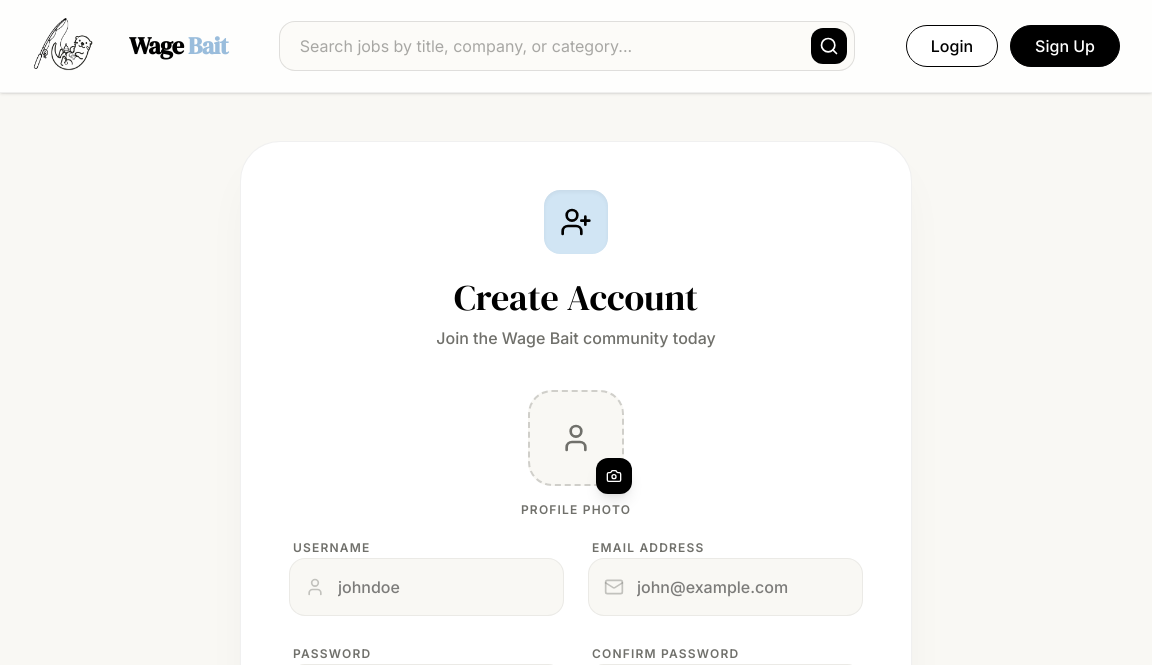
Test: Register Component › shows error if passwords do not match
This screenshot has width=1152, height=665.
Type "testuser" into the field with placeholder "johndoe".
click(426, 587); type("testuser")  # box [289,558,564,616]
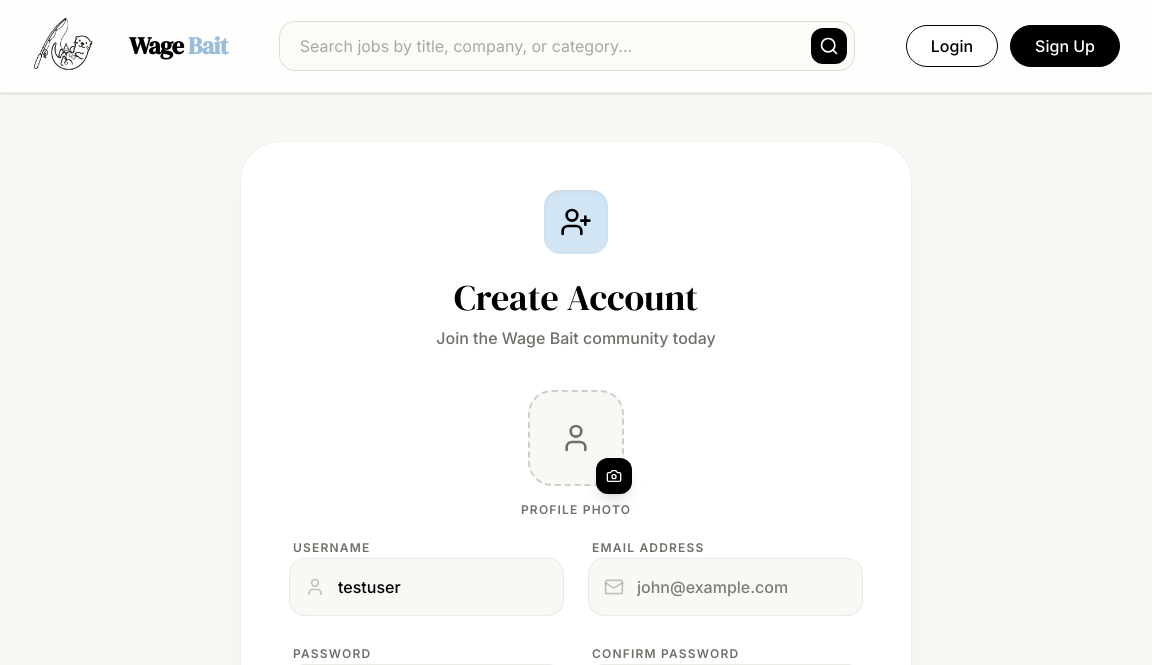
Type "test@example.com" into the field with placeholder "john@example.com".
click(726, 587); type("test@example.com")  # box [588,558,863,616]
(page scrolled)
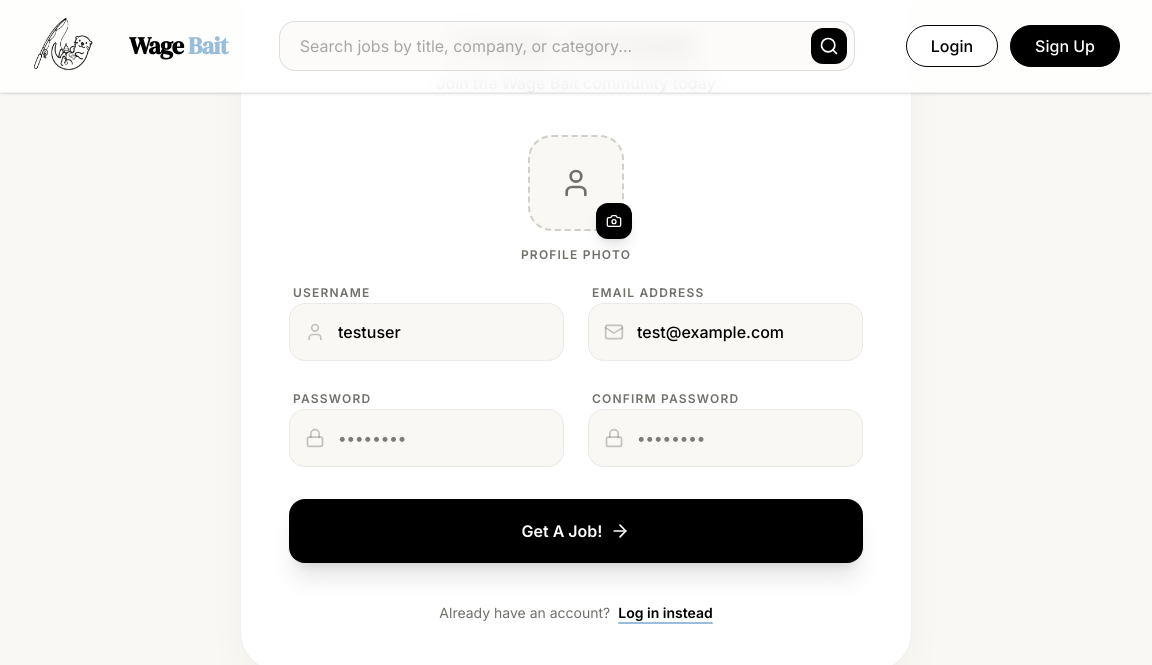
Type "password123" into the 1st password field with placeholder "••••••••".
click(426, 438); type("password123")  # box [289,409,564,467]
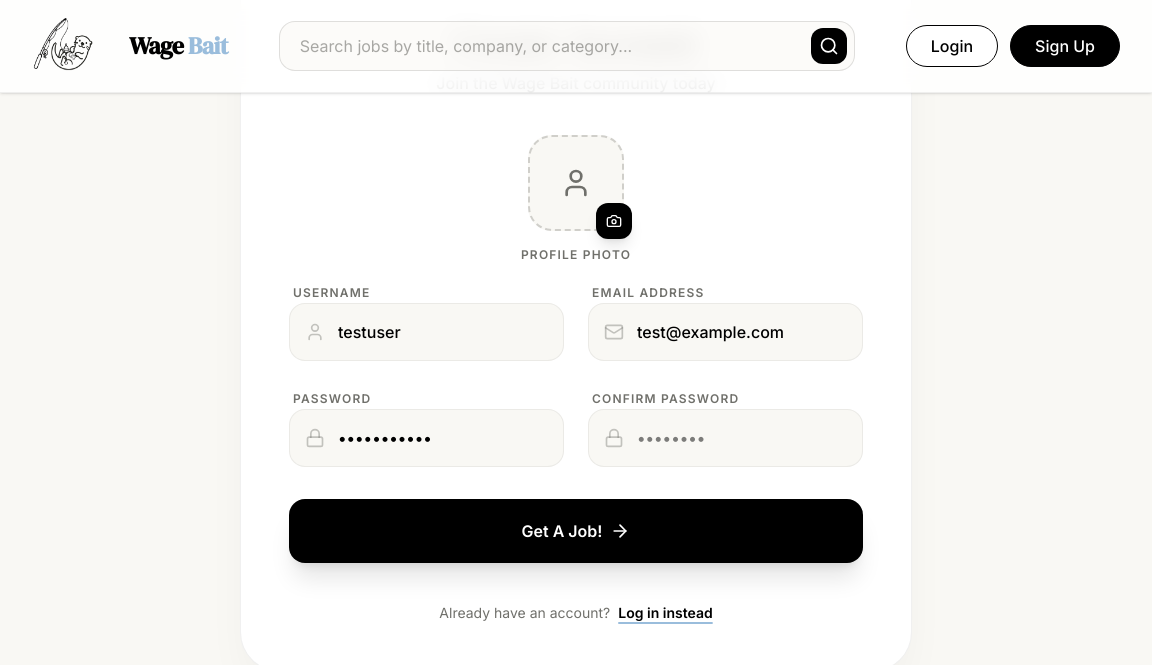
Type "password456" into the password field with placeholder "••••••••".
click(726, 438); type("password456")  # box [588,409,863,467]
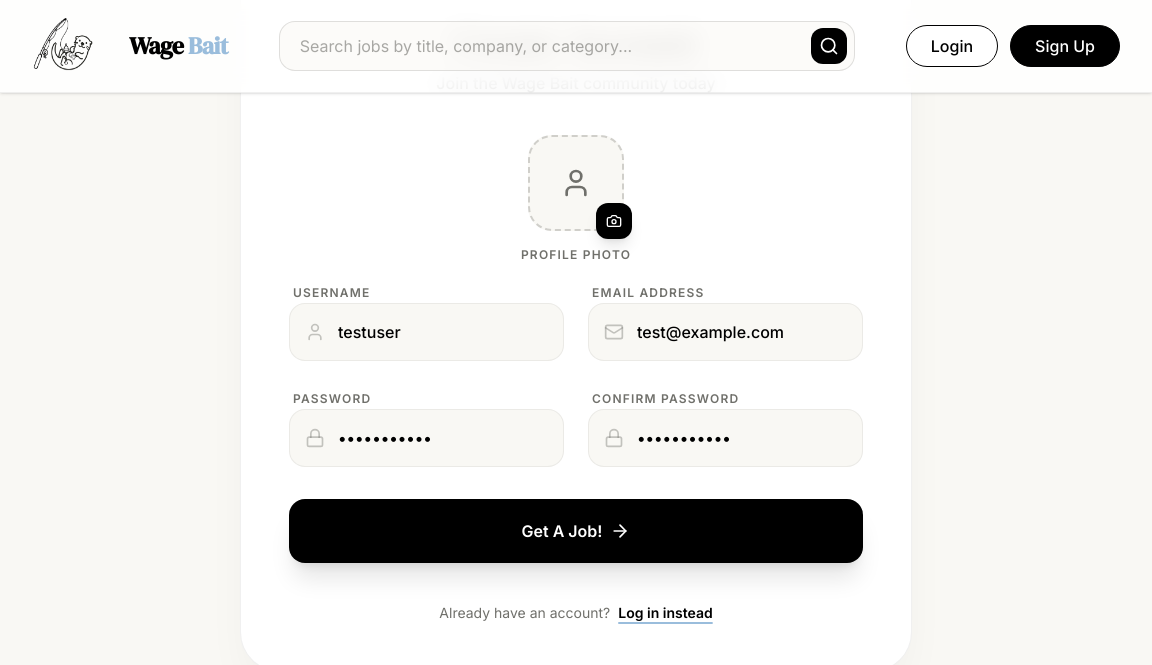
Click the button "Get A Job!".
click(576, 531)  # box [289,499,863,563]
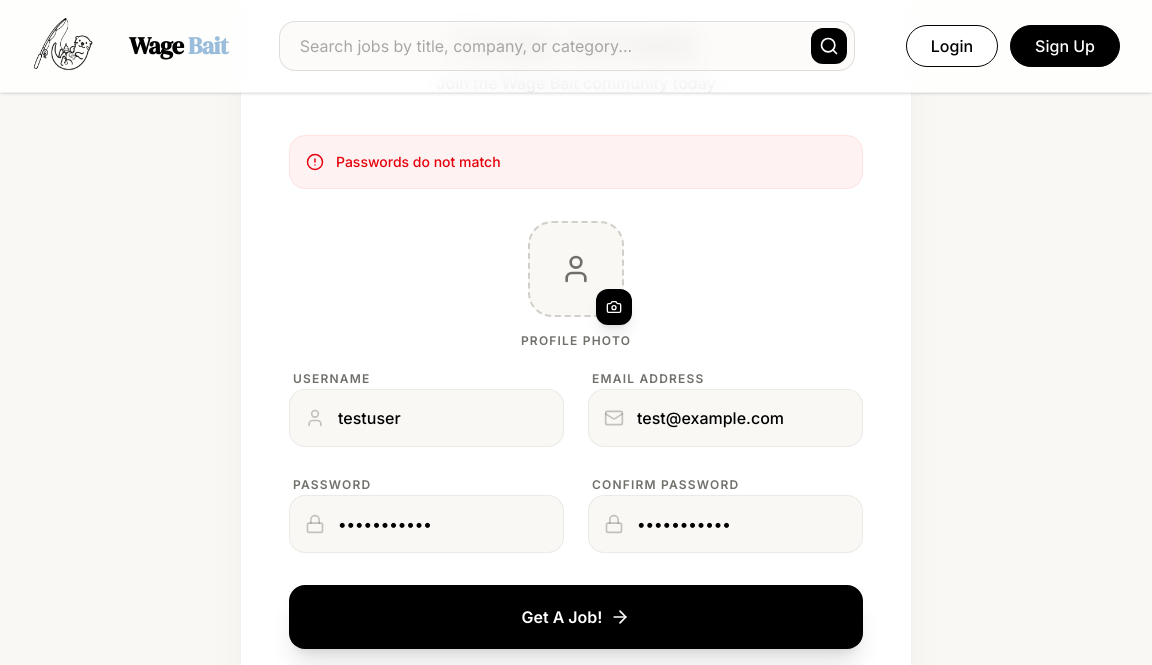
Expected: the text "Passwords do not match" is shown, [336,152,501,172]
